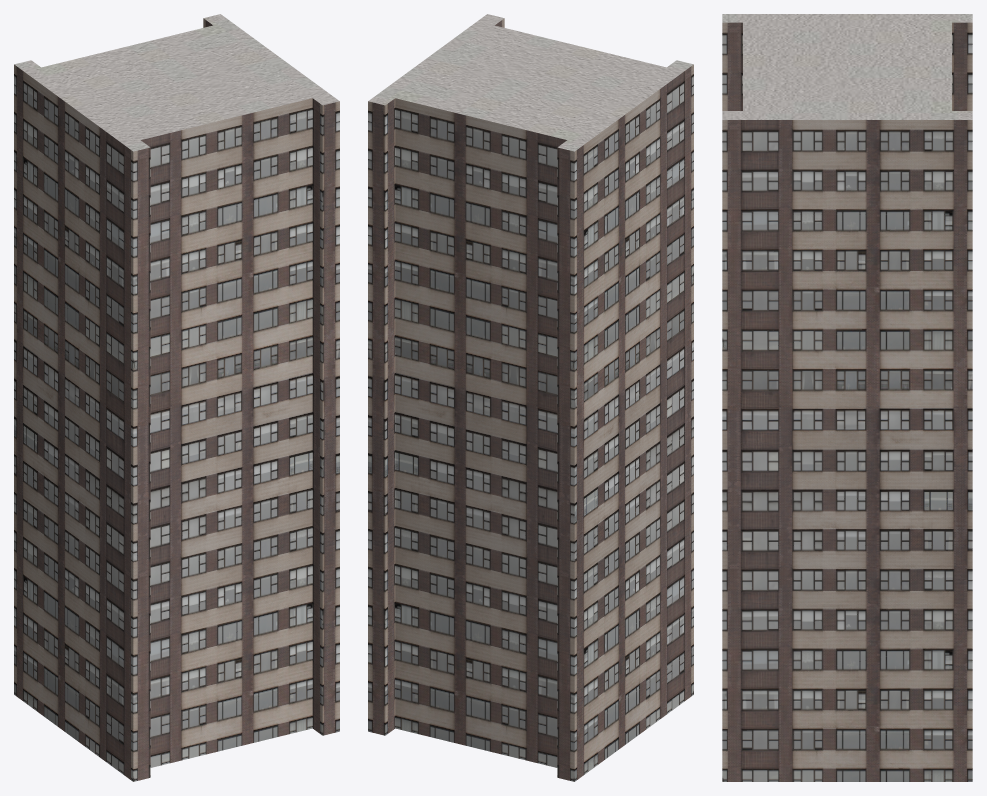
File: building_003_001.glb
3 renders of one model, left to right at view 1: azimuth 30°, elevation 25°; view 2: azimuth 150°, elevation 25°; view 3: azimuth 270°, elevation 25°, orthographic. The views are drawn at different scales.
Parts seen in each view (by area): view 1: building_003.001; view 2: building_003.001; view 3: building_003.001.
Part boxes in pixels (box(x1,y1,x2,y2)): building_003.001: box(14, 14, 339, 781); building_003.001: box(368, 14, 693, 781); building_003.001: box(722, 14, 972, 781).
Size of the model in its own units: 1200 by 3500 by 1200.
Materials: 2 (2 with a texture image).
